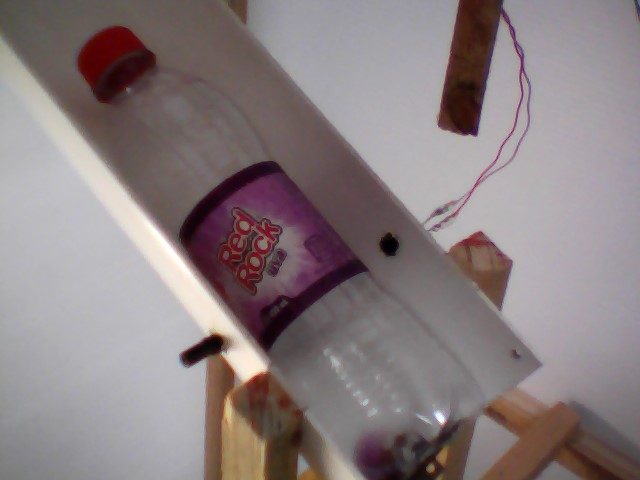plastico: (68, 15, 498, 480)
